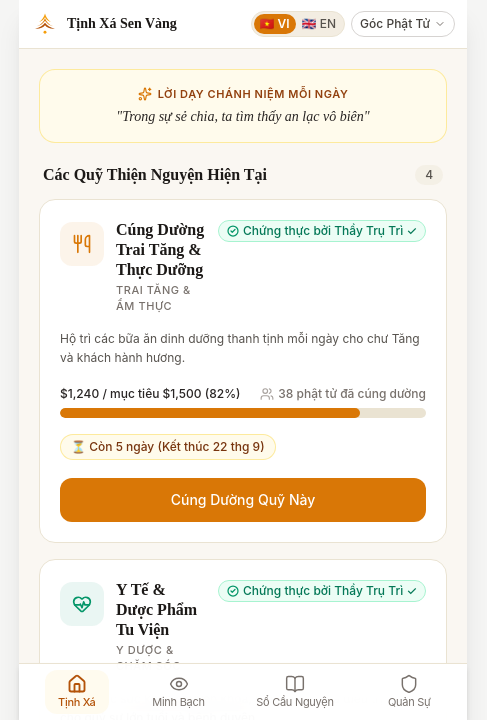
Vietnamese Translation Full Coverage › translates UTXO Ledger and Provenance Search in Vietnamese
Note: Switch to Transparency tab
Click the button "Minh Bạch" at x=178, y=692, box [144, 670, 213, 714]
(page scrolled)
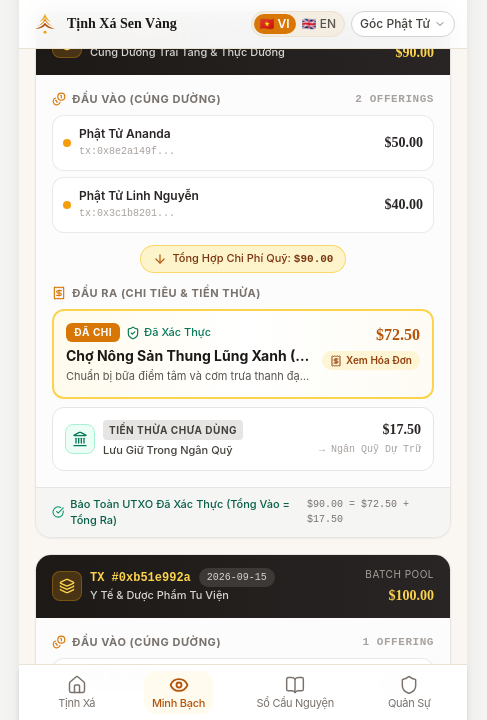
Check: the text "Xem Hóa Đơn" is shown, box [346, 353, 412, 368]
